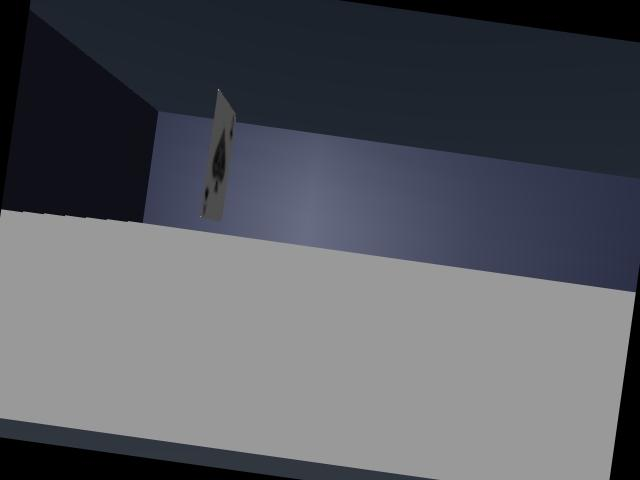club: (200, 90, 235, 220)
